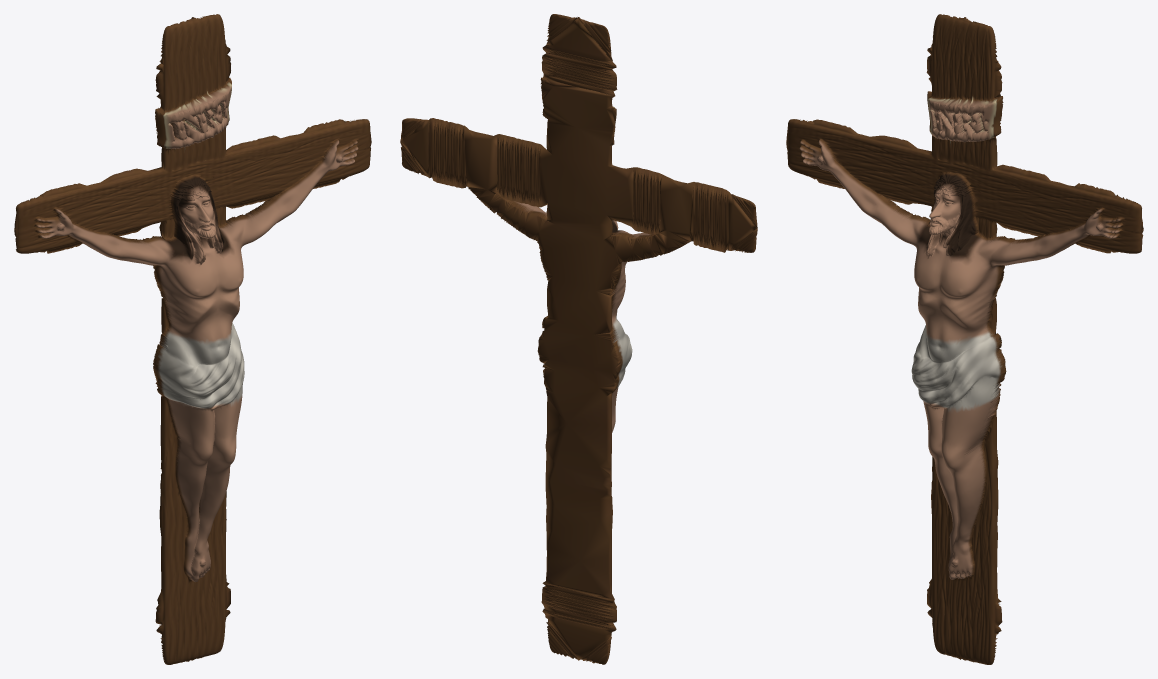
Rendered from rood.glb.
The picture shows the model from 3 angles, left to right: view 1: azimuth 30°, elevation 25°; view 2: azimuth 150°, elevation 25°; view 3: azimuth 330°, elevation 25°; orthographic projection.
Bounding box in the file's own units: 1.62 × 2.79 × 0.2389.
